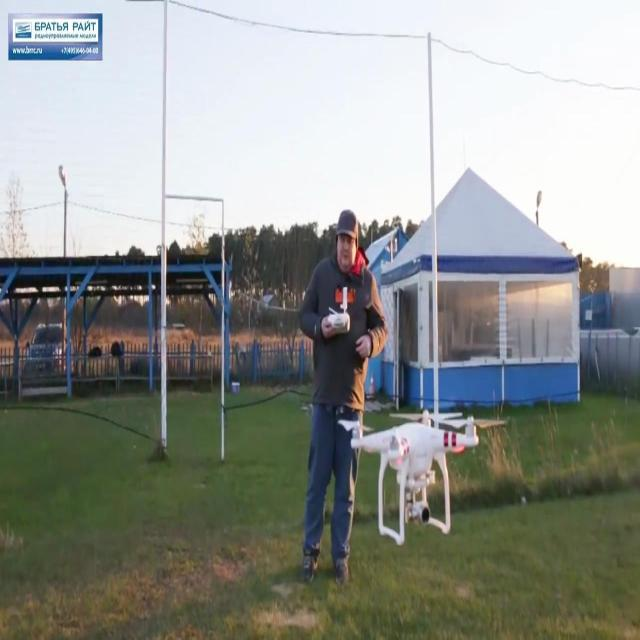drone: (334, 407, 502, 542)
